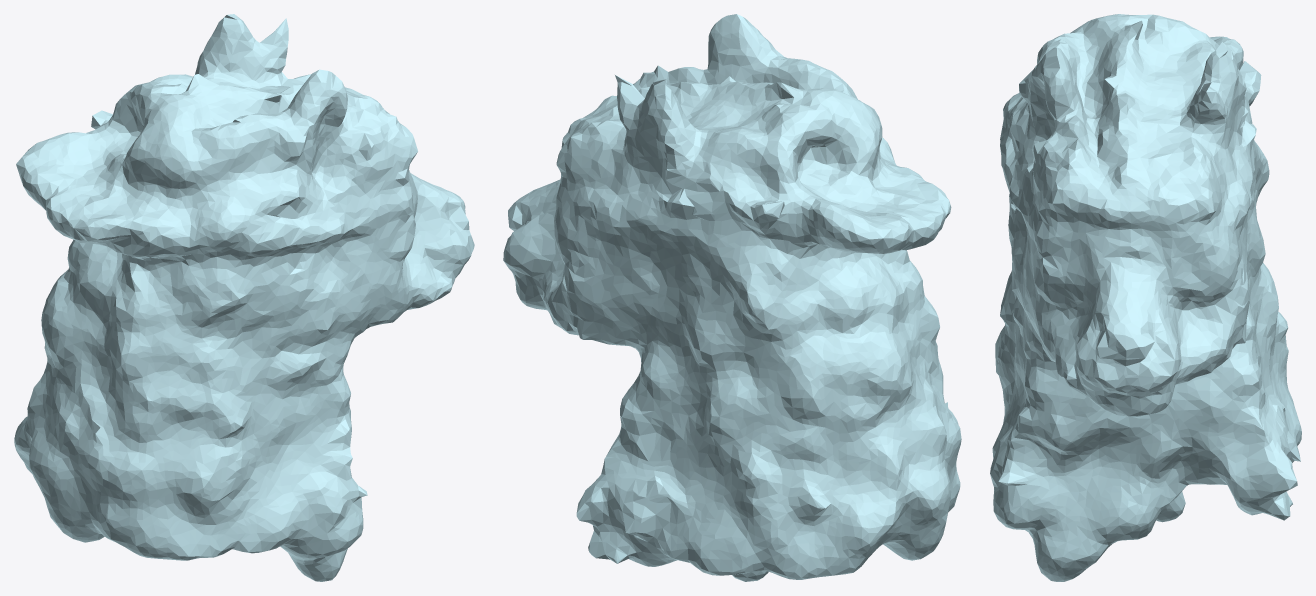
Rendered from alpaca-scribble.glb.
3 renders of one model, left to right at view 1: azimuth 30°, elevation 25°; view 2: azimuth 150°, elevation 25°; view 3: azimuth 270°, elevation 25°, orthographic. The views are drawn at different scales.
Visible parts, largest first — view 1: extracted_mesh; view 2: extracted_mesh; view 3: extracted_mesh.
Boxes of the visible parts, box(x1,y1,x2,y2) form: extracted_mesh: box(14, 14, 474, 581); extracted_mesh: box(503, 14, 961, 581); extracted_mesh: box(990, 14, 1301, 581).
Bounding box in the file's own units: 0.9742 × 1.14 × 0.6065.
1 material, 1 textured.
